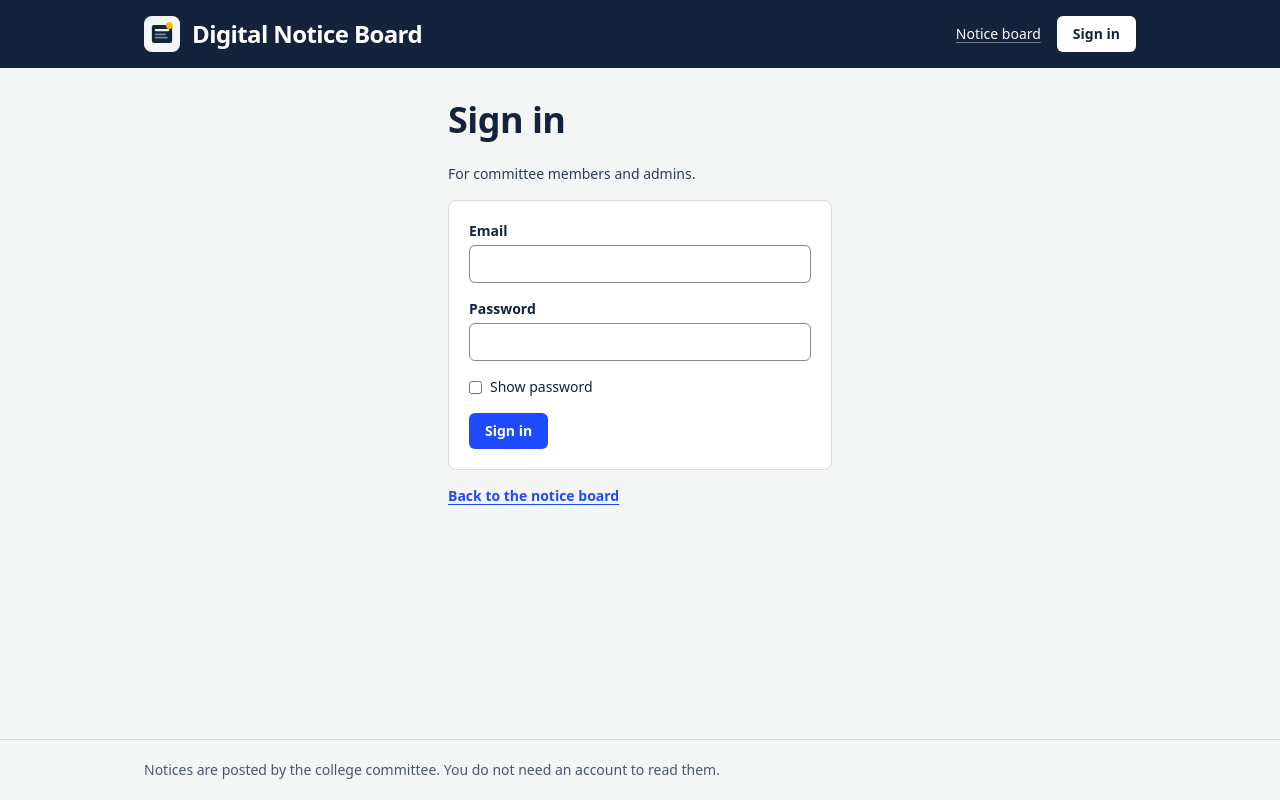
it: login page › signs a committee member in and opens their area
The image size is (1280, 800).
Check: the heading "Sign in" is shown, box [448,95,566,144]
Type "ann@example.com" into the field labelled "Email".
click(640, 264); type("ann@example.com")  # box [469,245,811,283]
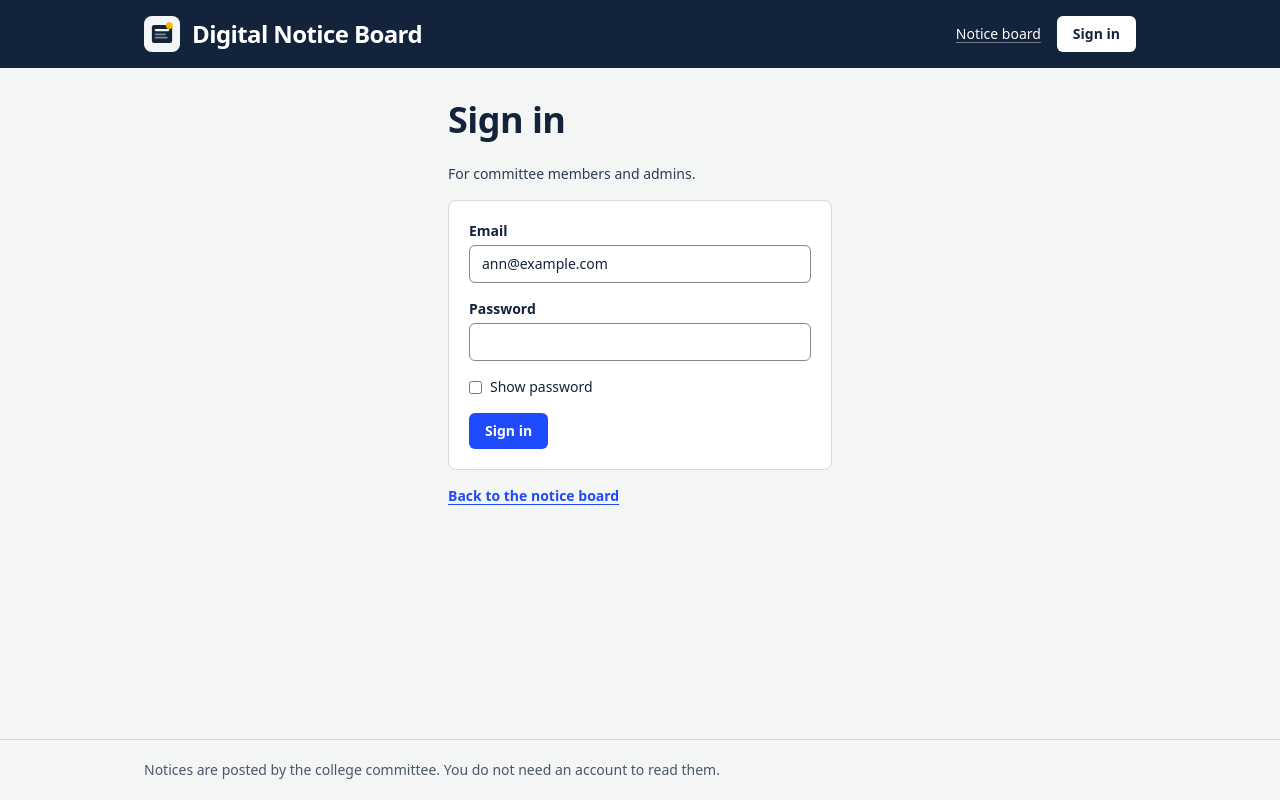
Type "pw" into the password field labelled "Password".
click(640, 342); type("pw")  # box [469,323,811,361]
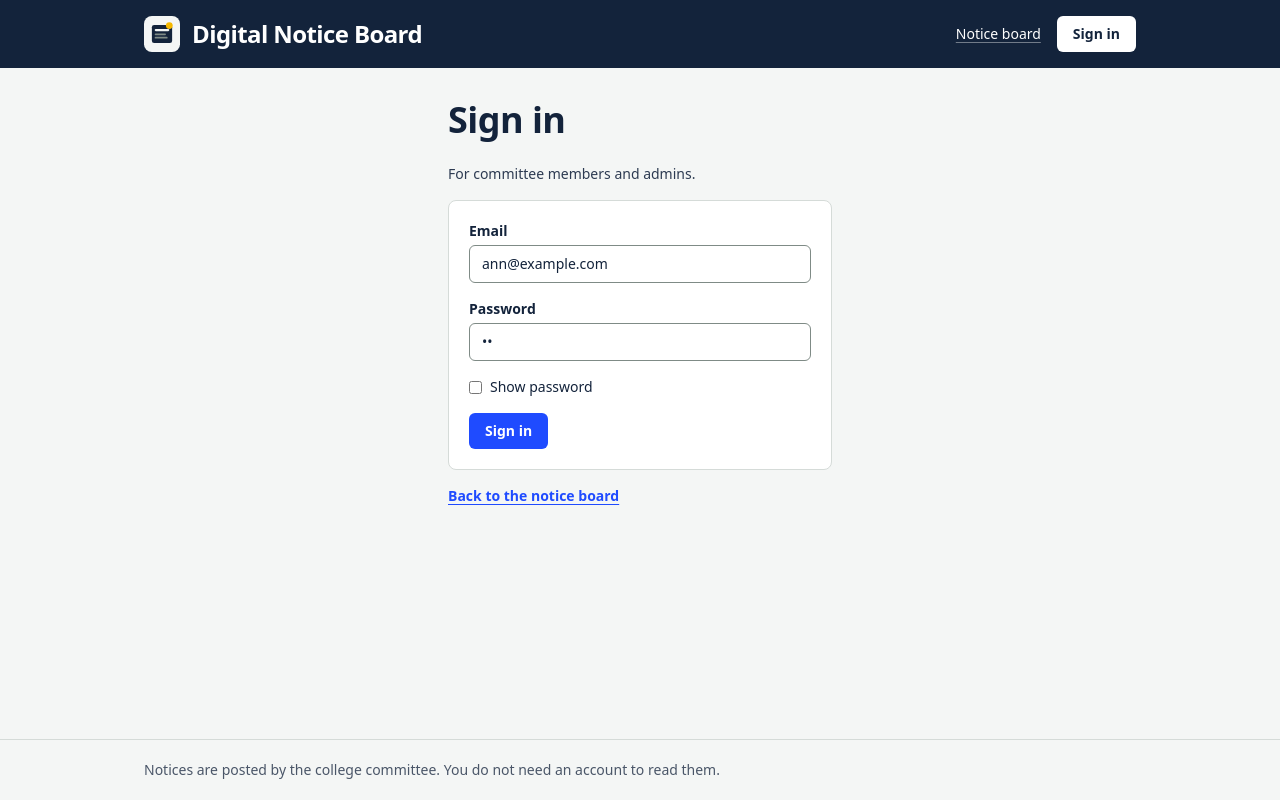
Click the button "Sign in".
click(509, 431)  # box [469,413,548,449]
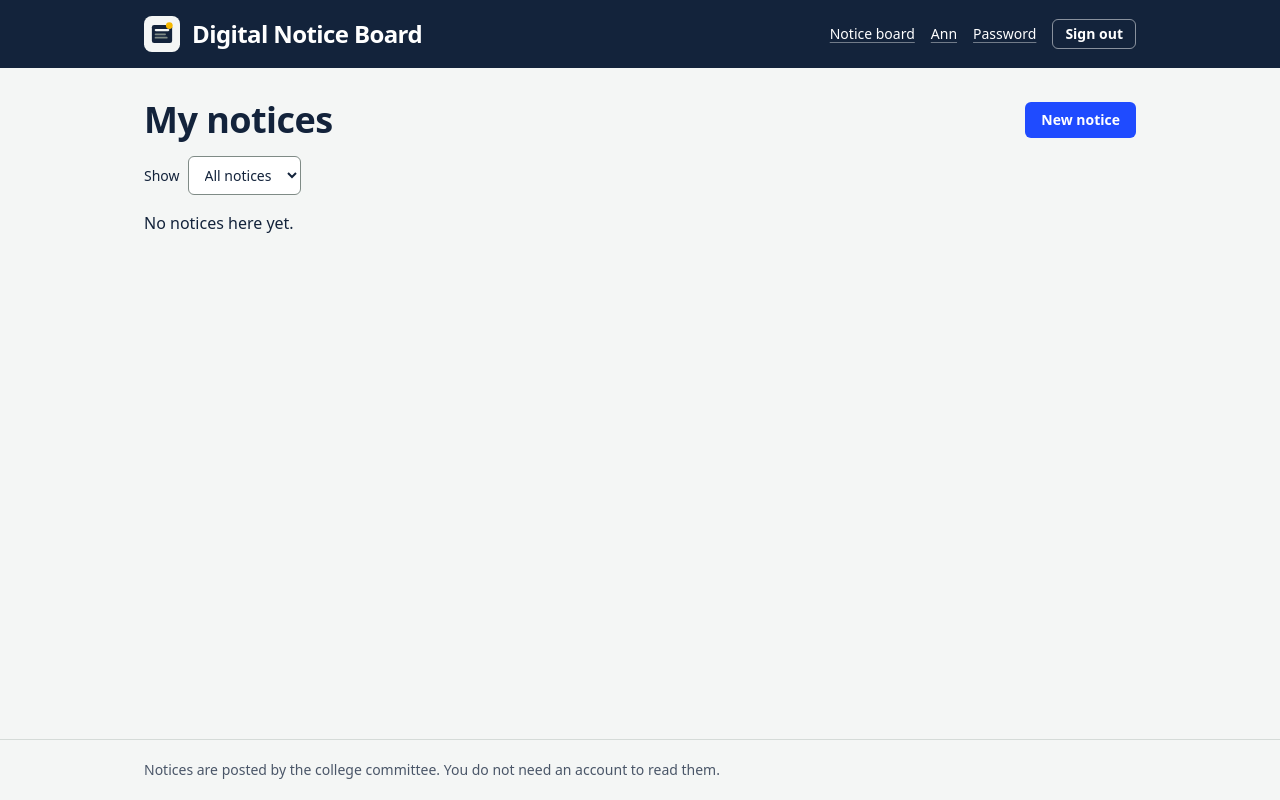
Check: the heading "My notices" is shown, box [144,100,333,140]
